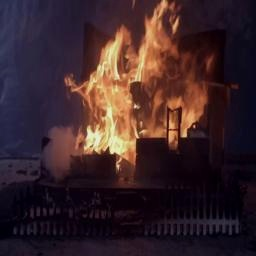fire: (53, 0, 225, 151)
